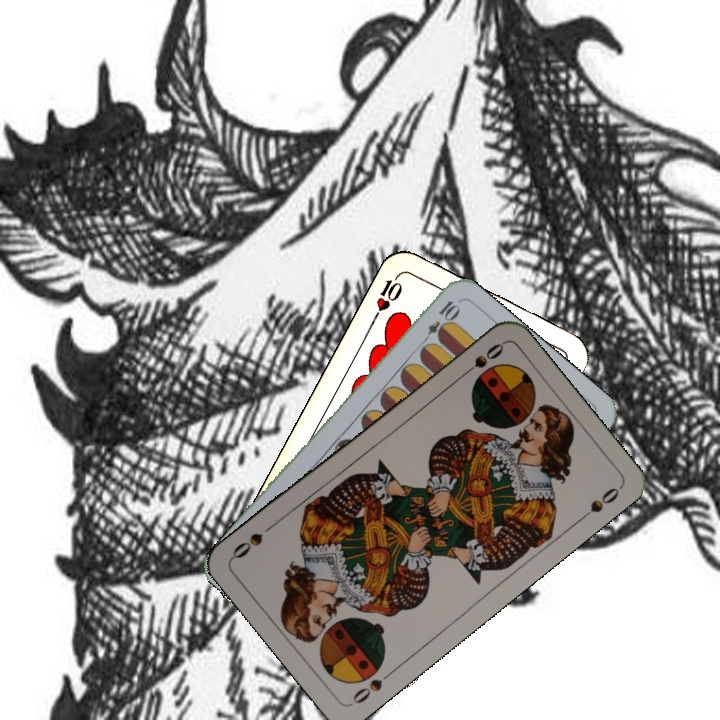E10: (417, 296, 462, 349)
H10: (368, 269, 405, 323)
SO: (456, 339, 507, 381), (347, 666, 397, 708)
